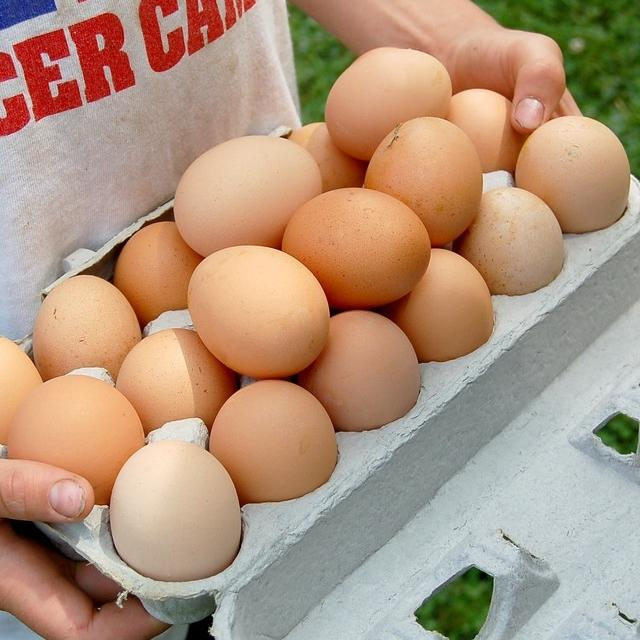egg: (186, 244, 330, 378), (109, 438, 241, 580), (281, 185, 431, 308), (6, 372, 145, 504), (173, 134, 323, 256), (208, 378, 338, 502), (363, 115, 483, 246), (298, 308, 421, 431), (324, 46, 452, 160), (514, 115, 630, 232), (115, 327, 237, 432), (385, 246, 494, 362), (32, 274, 142, 381), (456, 186, 564, 294), (113, 220, 202, 324), (0, 329, 43, 448)
